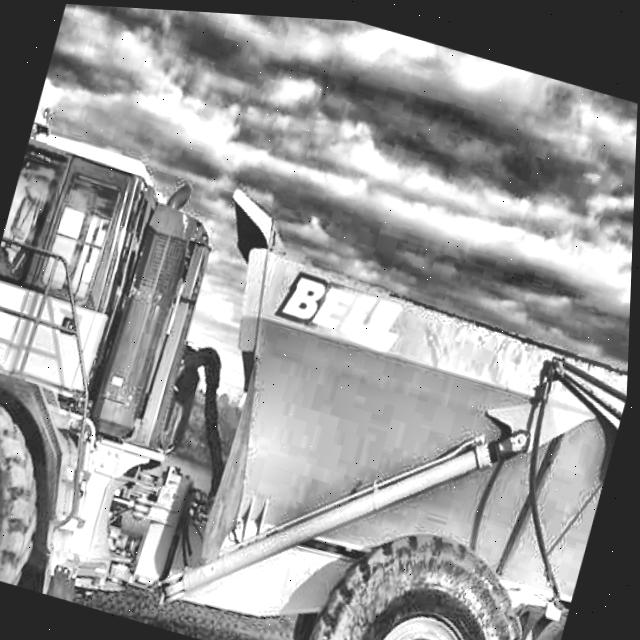dump_truck: (0, 78, 638, 640)
